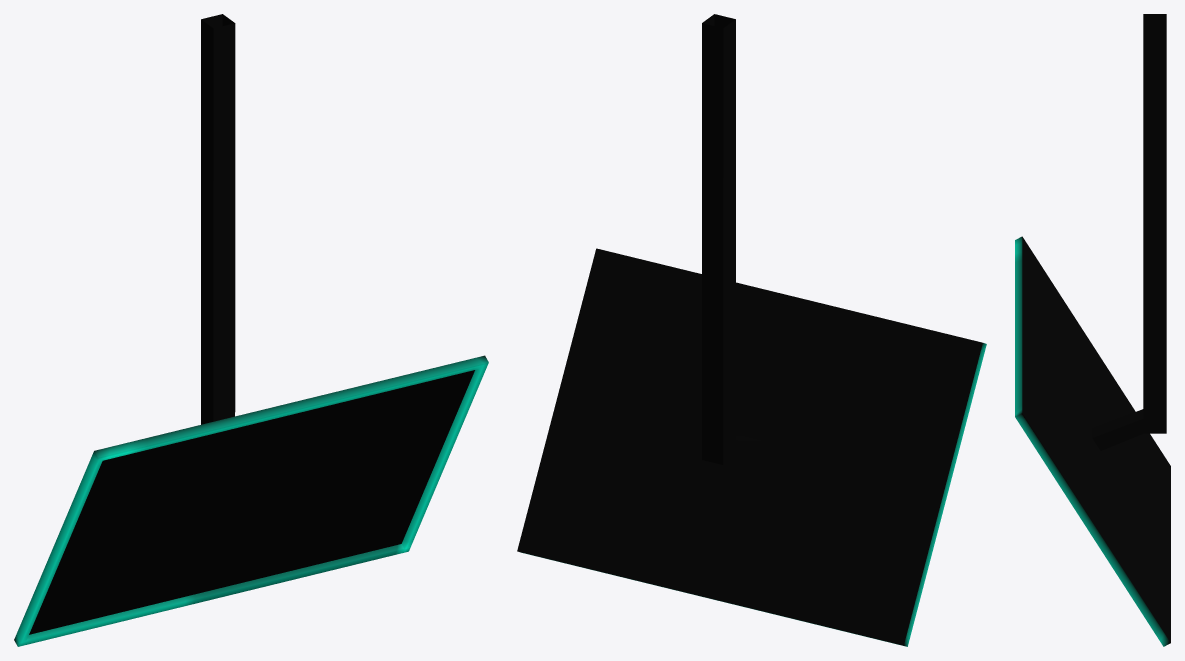
The picture shows the model from 3 angles, left to right: view 1: azimuth 30°, elevation 25°; view 2: azimuth 150°, elevation 25°; view 3: azimuth 270°, elevation 25°; orthographic projection. The views are drawn at different scales.
Parts seen in each view (by area): view 1: Screen, Stand; view 2: Screen, Stand; view 3: Screen, Stand.
Boxes of the visible parts, x1,y1,x2,y2 form: Screen: [14, 355, 488, 646]; Stand: [201, 14, 235, 424]; Screen: [517, 248, 986, 646]; Stand: [702, 14, 762, 465]; Screen: [1015, 236, 1170, 646]; Stand: [1092, 14, 1166, 450].
Size of the model in its own units: 119 by 169 by 44.18.
